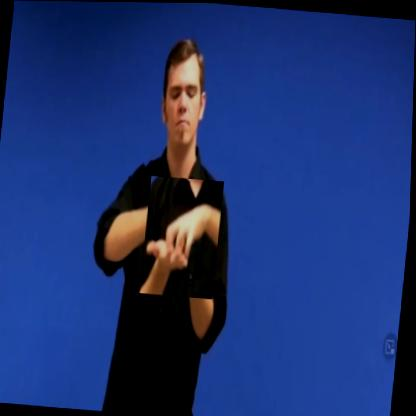Expensive: (141, 175, 225, 299)
